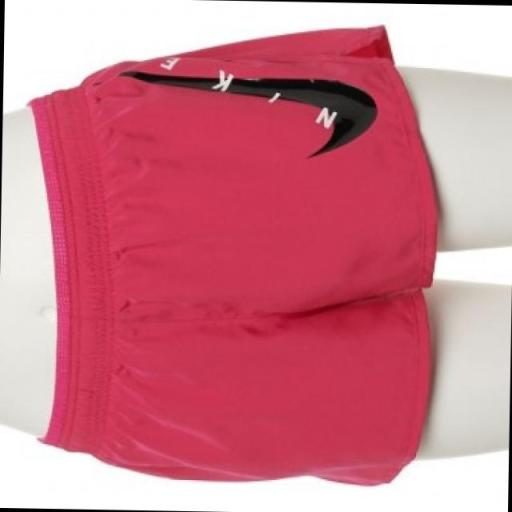Nike: (112, 66, 382, 160)
